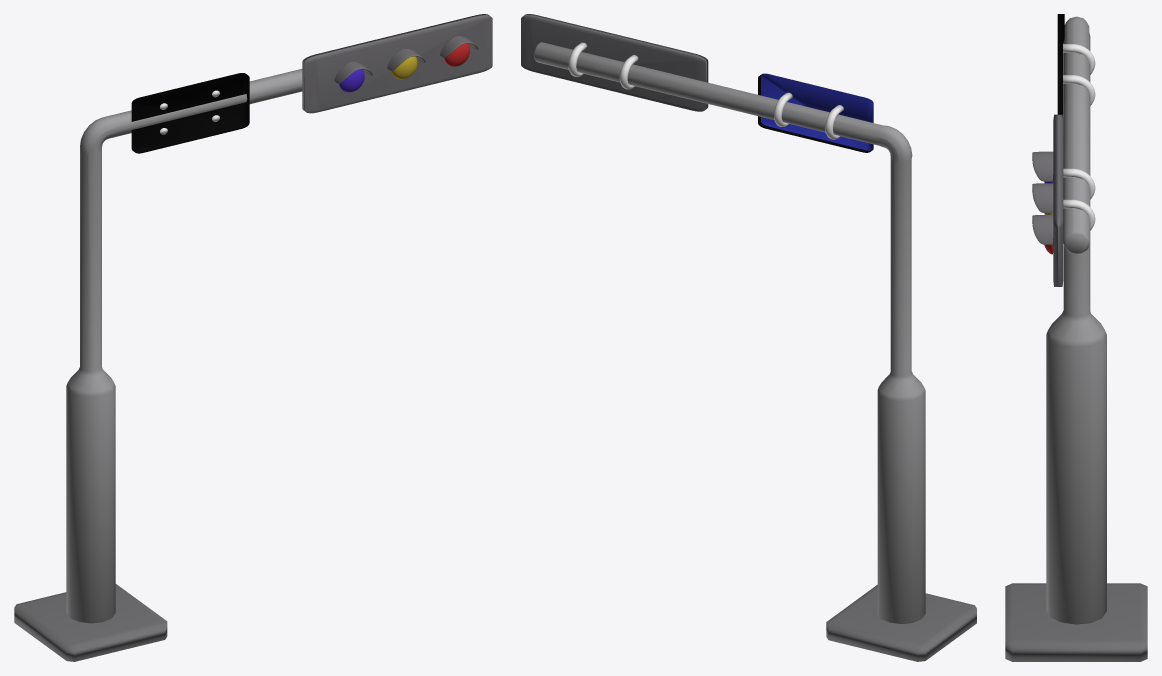
The model's file is Trafic_light.fbx.
The picture shows the model from 3 angles, left to right: view 1: azimuth 30°, elevation 25°; view 2: azimuth 150°, elevation 25°; view 3: azimuth 270°, elevation 25°; orthographic projection. The views are drawn at different scales.
Visible parts, largest first — view 1: Pole, Sign.001, Base, Sign, LIght_bulb, Light_Top; view 2: Pole, Sign.001, Base, Sign, Torus.001, Torus.002; view 3: Pole, Base, Sign.001, Light_Top, Torus.001, Torus.002, Sign.
Part boxes in pixels (<box>): Pole: <box>66,69,302,623</box>; Sign.001: <box>302,14,492,113</box>; Base: <box>14,584,167,661</box>; Sign: <box>131,73,249,153</box>; LIght_bulb: <box>339,43,469,92</box>; Light_Top: <box>334,36,478,83</box>; Pole: <box>534,42,925,624</box>; Sign.001: <box>521,14,708,111</box>; Base: <box>826,585,976,661</box>; Sign: <box>758,73,873,152</box>; Torus.001: <box>568,42,638,89</box>; Torus.002: <box>774,92,843,139</box>; Pole: <box>1046,16,1106,624</box>; Base: <box>1005,583,1147,661</box>; Sign.001: <box>1053,114,1063,286</box>; Light_Top: <box>1032,151,1053,244</box>; Torus.001: <box>1063,168,1095,230</box>; Torus.002: <box>1063,44,1095,105</box>; Sign: <box>1057,14,1064,116</box>.
Bounding box in the file's own units: 427 × 486 × 97.17.
